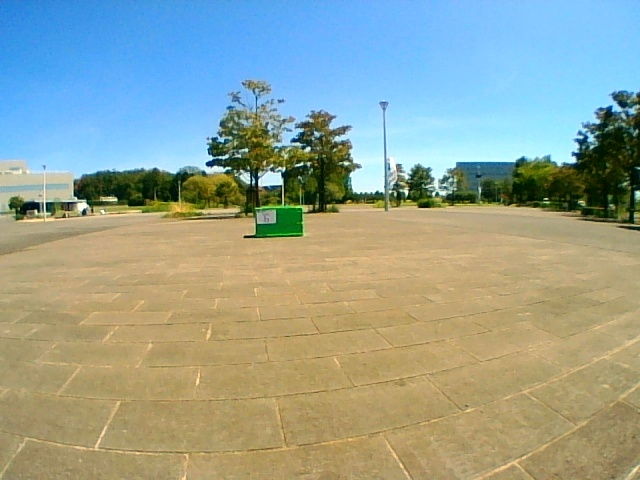green_box: (255, 206, 303, 237)
tag: (257, 211, 275, 223)
